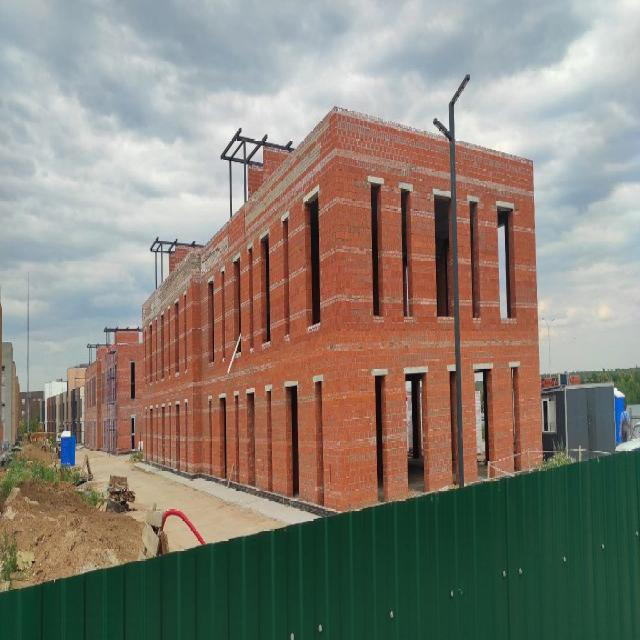Building: (140, 104, 545, 518)
